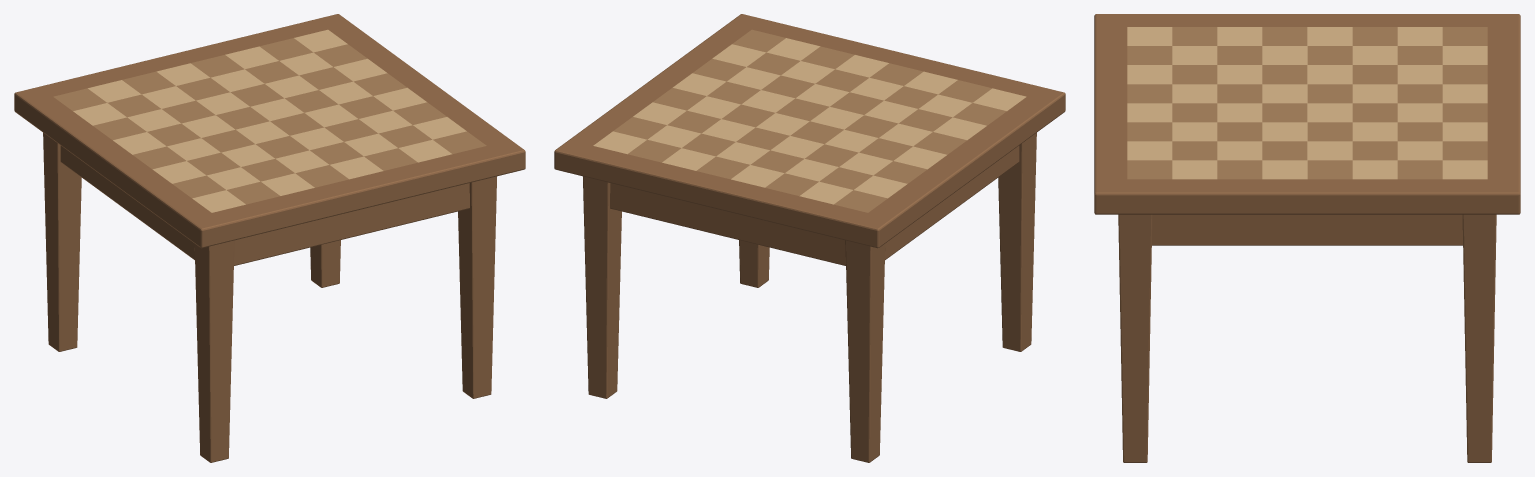
The model's file is table_square_parquet.glb.
The picture shows the model from 3 angles, left to right: view 1: azimuth 30°, elevation 25°; view 2: azimuth 150°, elevation 25°; view 3: azimuth 270°, elevation 25°; orthographic projection. The views are drawn at different scales.
Visible parts, largest first — view 1: Square table flush parquet checkerboard top, Parquet table grounded tapered leg, Parquet table grounded tapered leg.002, Parquet table grounded tapered leg.001, Parquet table apron.001, Parquet table apron, Parquet table grounded tapered leg.003; view 2: Square table flush parquet checkerboard top, Parquet table grounded tapered leg.001, Parquet table grounded tapered leg.003, Parquet table grounded tapered leg, Parquet table apron.003, Parquet table apron, Parquet table grounded tapered leg.002; view 3: Square table flush parquet checkerboard top, Parquet table apron.002, Parquet table grounded tapered leg.002, Parquet table grounded tapered leg.003.
Part boxes in pixels (left/top/right/bottom): Square table flush parquet checkerboard top: left=14, top=14, right=525, bottom=248; Parquet table grounded tapered leg: left=194, top=240, right=234, bottom=462; Parquet table grounded tapered leg.002: left=458, top=176, right=496, bottom=398; Parquet table grounded tapered leg.001: left=43, top=132, right=81, bottom=351; Parquet table apron.001: left=234, top=183, right=469, bottom=265; Parquet table apron: left=60, top=146, right=194, bottom=259; Parquet table grounded tapered leg.003: left=310, top=240, right=340, bottom=287; Square table flush parquet checkerboard top: left=554, top=14, right=1065, bottom=248; Parquet table grounded tapered leg.001: left=845, top=240, right=885, bottom=462; Parquet table grounded tapered leg.003: left=583, top=176, right=621, bottom=398; Parquet table grounded tapered leg: left=998, top=132, right=1036, bottom=351; Parquet table apron.003: left=610, top=183, right=845, bottom=265; Parquet table apron: left=885, top=146, right=1019, bottom=259; Parquet table grounded tapered leg.002: left=739, top=240, right=769, bottom=287; Square table flush parquet checkerboard top: left=1094, top=14, right=1520, bottom=214; Parquet table apron.002: left=1152, top=214, right=1462, bottom=245; Parquet table grounded tapered leg.002: left=1118, top=214, right=1152, bottom=462; Parquet table grounded tapered leg.003: left=1462, top=214, right=1496, bottom=462.
Bounding box in the file's own units: 1.04 × 0.76 × 1.04.
